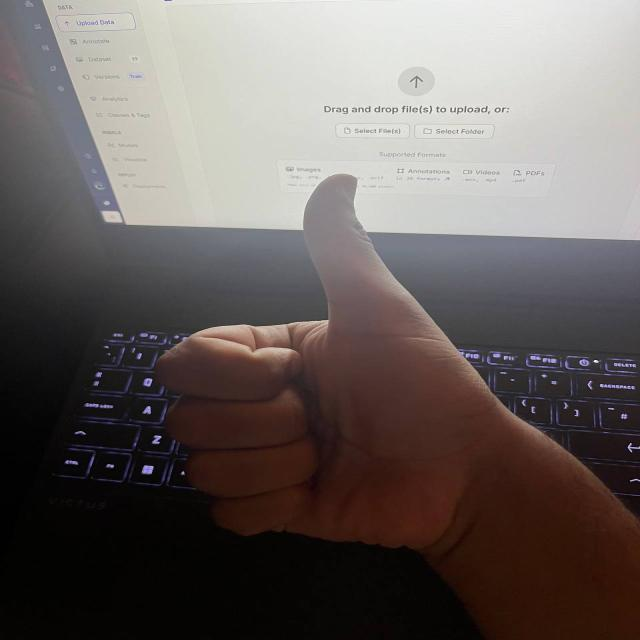hand thumb up: (160, 173, 492, 550)
